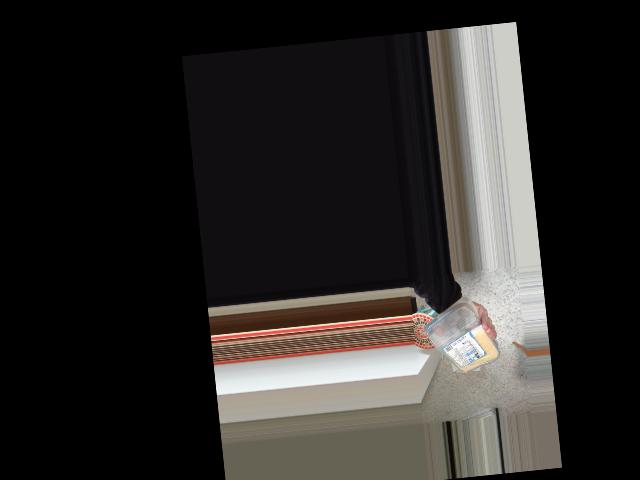cheese: (420, 302, 493, 383)
